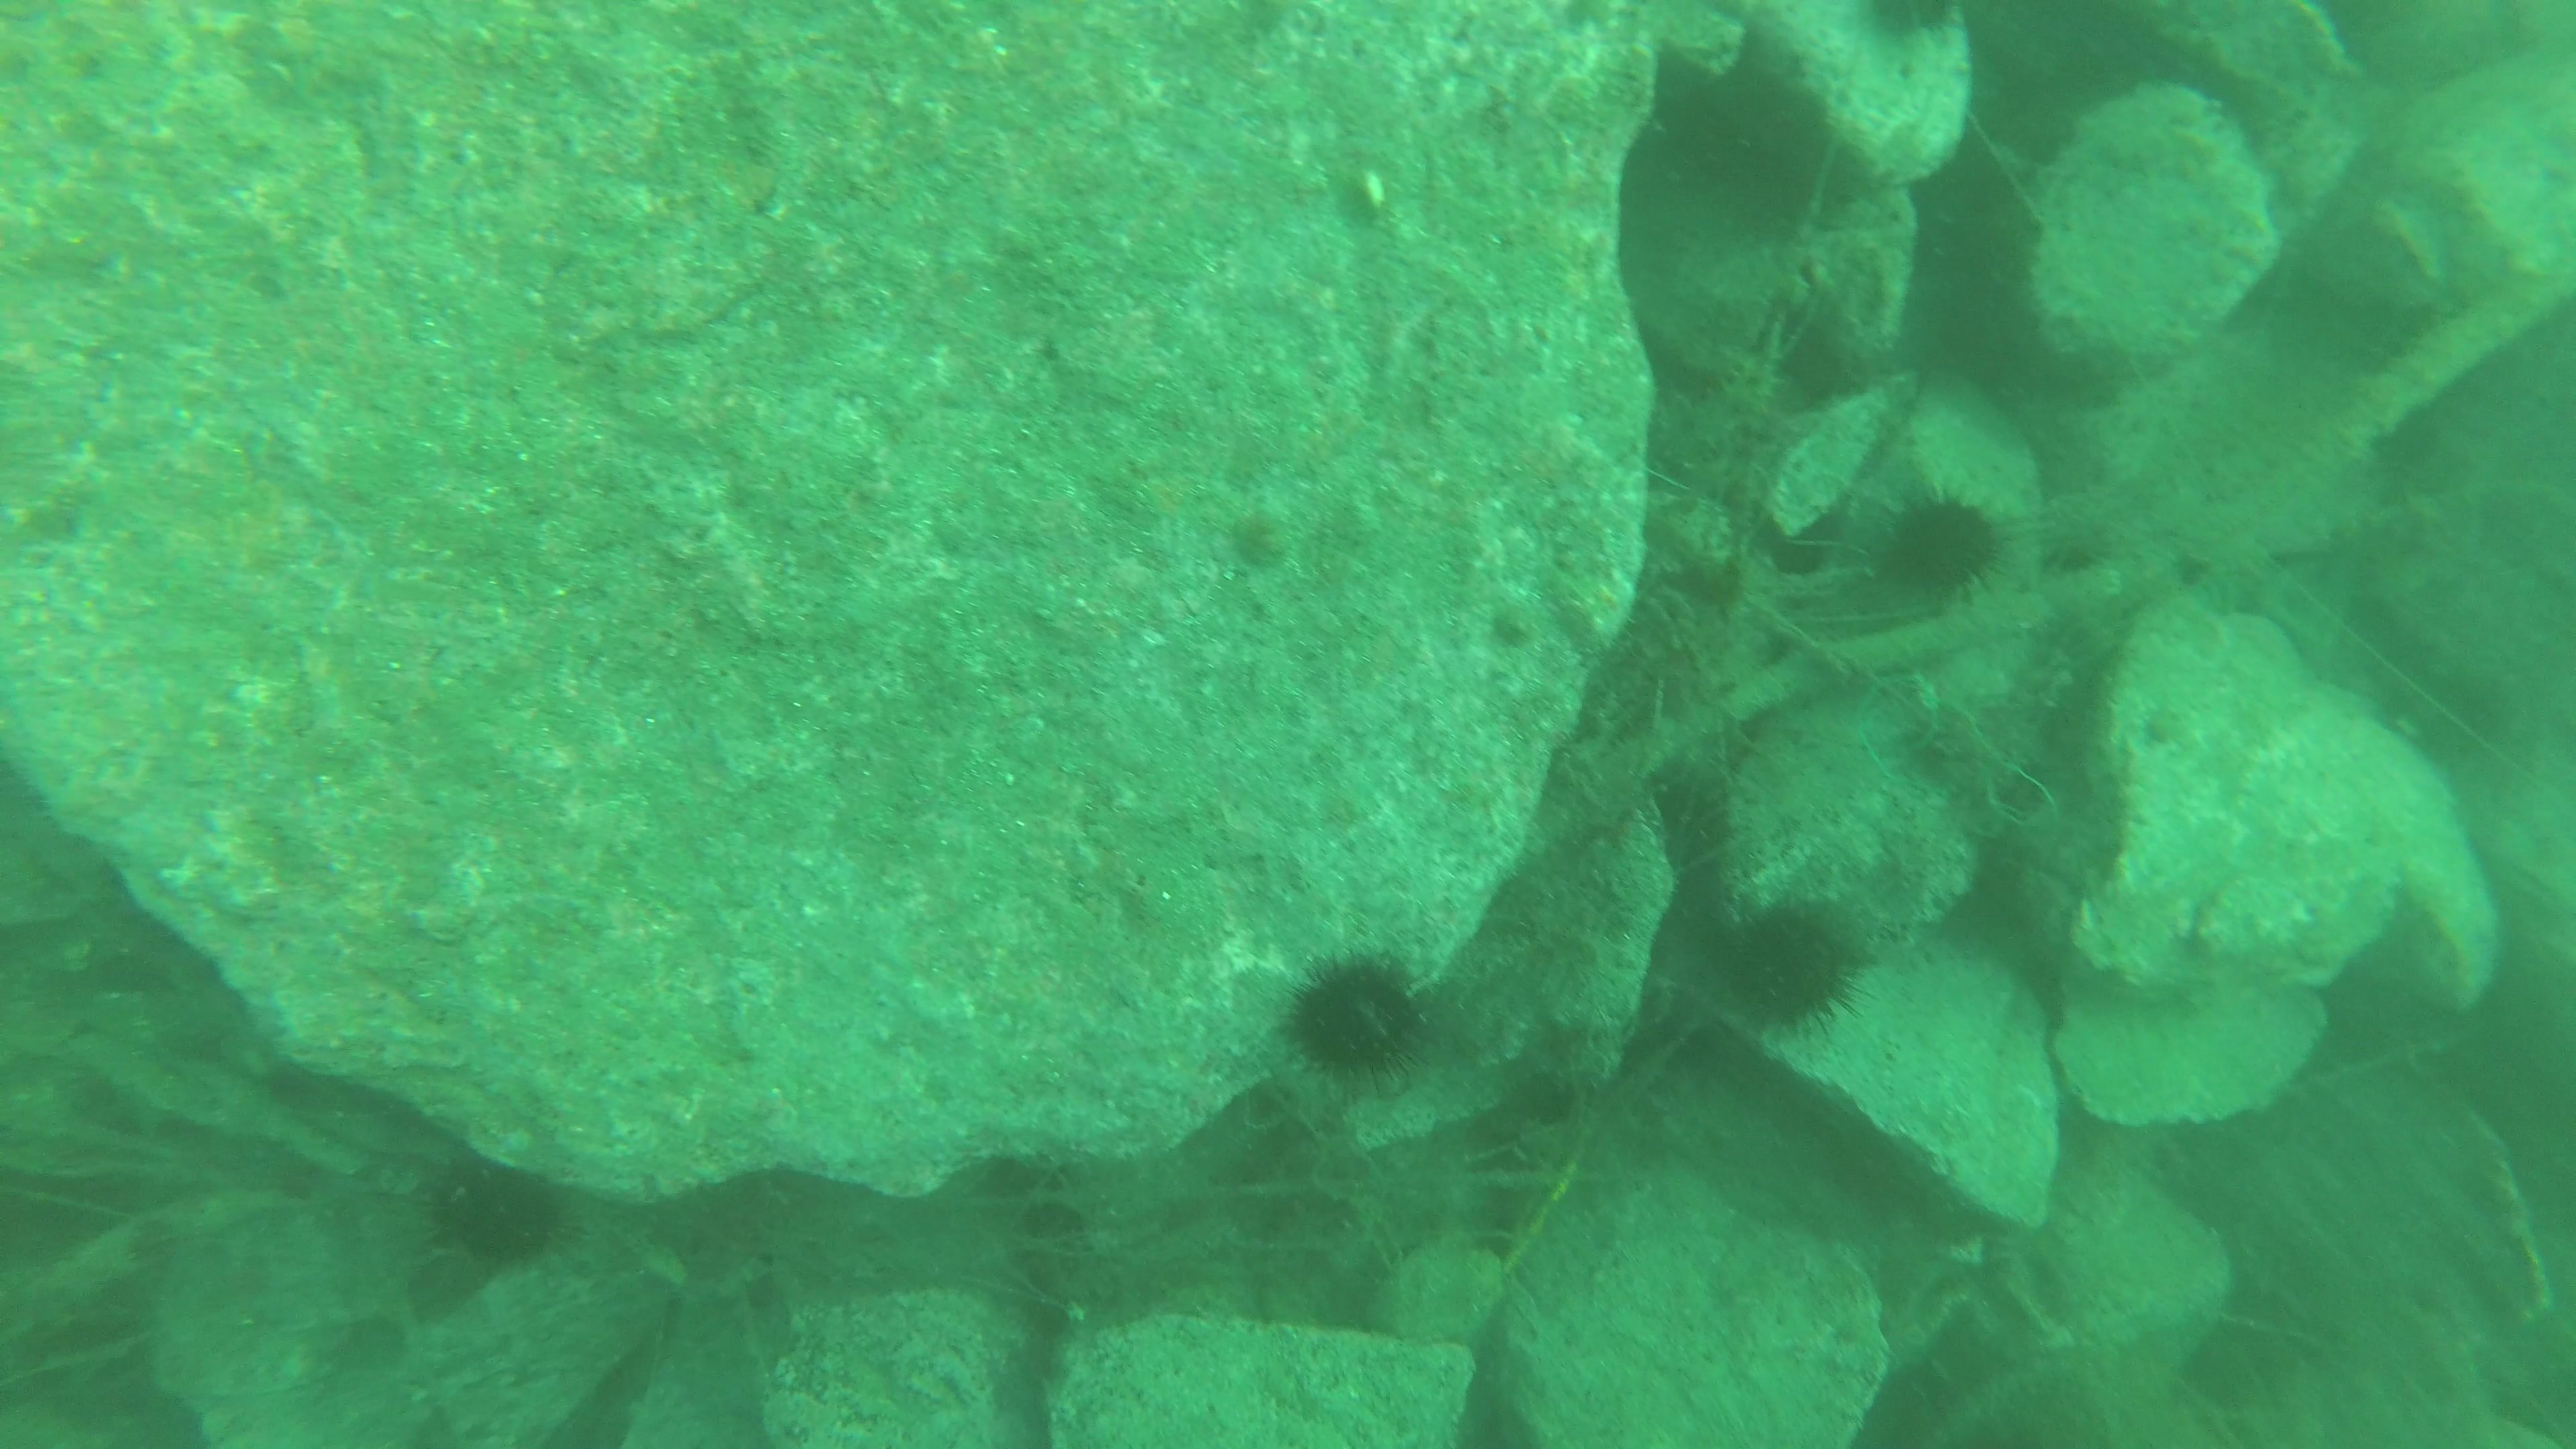echinus: (1279, 941, 1456, 1097), (1859, 479, 2020, 633), (412, 1143, 584, 1277), (1718, 904, 1861, 1051), (1854, 0, 1959, 51)
